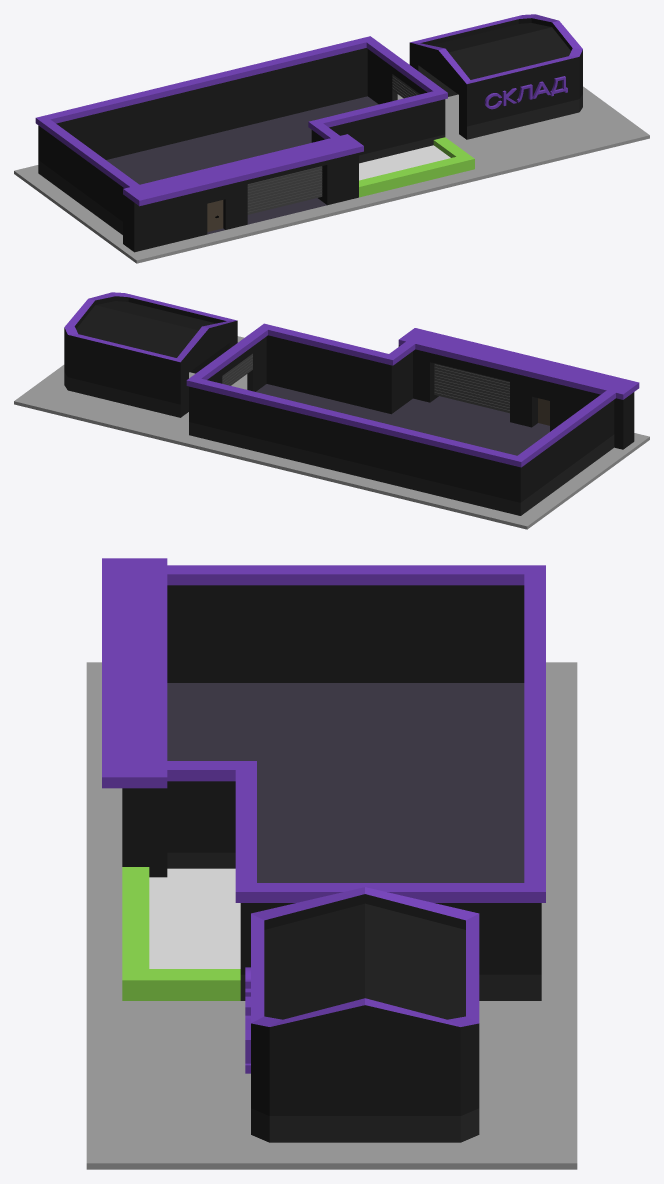
File: department.fbx
The picture shows the model from 3 angles, top to bottom: view 1: azimuth 30°, elevation 25°; view 2: azimuth 150°, elevation 25°; view 3: azimuth 270°, elevation 25°; orthographic projection. The views are drawn at different scales.
Visible parts, largest first — view 1: Cube.005, Cube.028, Plane.001, Cube.012, Cube.011, Cube.006, Cube.018, Cube.013, Cube.019, Cube.010, Cube.025, Cube.029 (+7 smaller); view 2: Cube.005, Cube.028, Plane.001, Cube.007, Cube.012, Cube.018, Cube.013, Cube.006, Cube.019, Cube.010, Cube.016, Cube.014 (+3 smaller); view 3: Plane.001, Cube.028, Cube.005, Cube.006, Cube.007, Cube.011, Cube.018, Cube.023, Cube.014, Cube.013, Cube.029, Cube.015 (+5 smaller).
Part boxes in pixels (x1,y1,x2,y2): Cube.005: (38, 48, 439, 234); Cube.028: (409, 14, 582, 139); Plane.001: (106, 96, 378, 234); Cube.012: (123, 153, 358, 252); Cube.011: (127, 129, 649, 263); Cube.006: (397, 86, 640, 168); Cube.018: (123, 134, 363, 206); Cube.013: (35, 36, 375, 126); Cube.019: (247, 166, 322, 214); Cube.010: (14, 167, 133, 256); Cube.025: (359, 157, 463, 197); Cube.029: (367, 49, 445, 138); Cube.005: (189, 335, 614, 515); Cube.028: (64, 292, 237, 417); Plane.001: (256, 384, 549, 455); Cube.007: (14, 394, 520, 525); Cube.012: (398, 345, 634, 449); Cube.018: (398, 328, 639, 399); Cube.013: (186, 376, 526, 467); Cube.006: (23, 365, 247, 434); Cube.019: (434, 363, 509, 413); Cube.010: (511, 441, 640, 529); Cube.016: (268, 326, 398, 365); Cube.014: (517, 390, 615, 463); Plane.001: (167, 683, 524, 882); Cube.028: (251, 887, 479, 1142); Cube.005: (167, 585, 541, 1000); Cube.006: (122, 1001, 541, 1169); Cube.007: (541, 677, 577, 1169); Cube.011: (86, 662, 122, 1169); Cube.018: (102, 558, 167, 788); Cube.023: (149, 868, 240, 968); Cube.014: (167, 565, 524, 585); Cube.013: (524, 565, 545, 902); Cube.029: (240, 903, 528, 1000); Cube.015: (235, 883, 524, 902).
Bounding box in the file's own units: 619 × 83 × 256.
